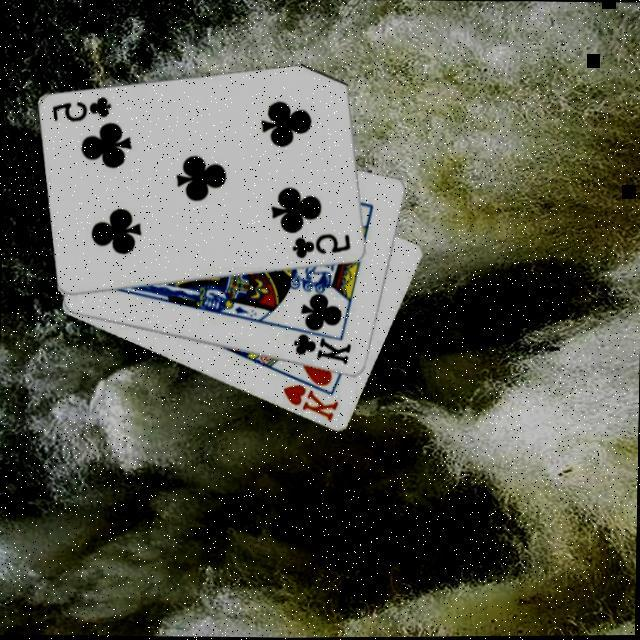5C: (48, 90, 114, 124), (288, 229, 353, 260)
KC: (286, 322, 353, 366)
KH: (278, 379, 340, 423)
